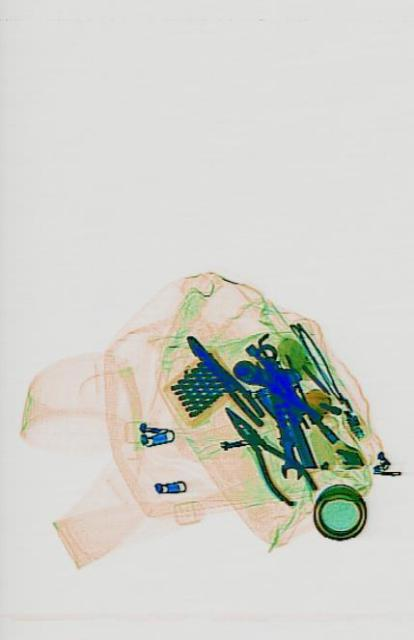Pliers: (212, 386, 317, 522), (180, 324, 266, 430)
Wrench: (252, 337, 301, 483)
